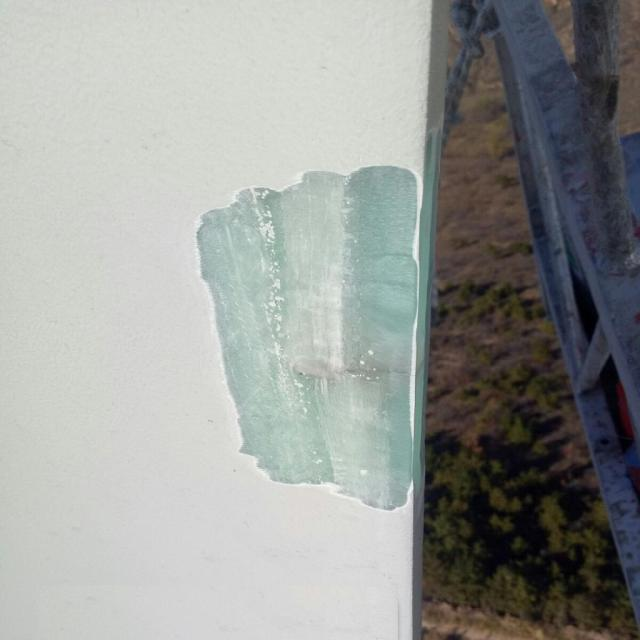surface_peeling: (196, 164, 414, 514)
